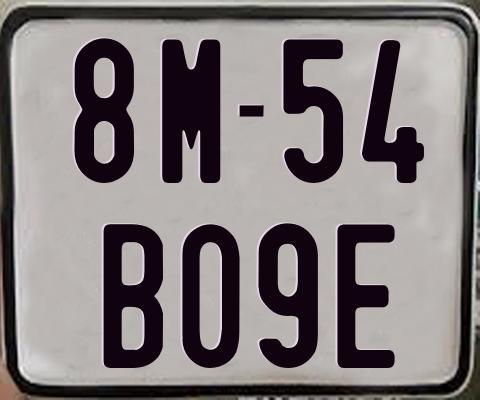0: (181, 222, 244, 371)
4: (362, 40, 426, 186)
5: (280, 36, 342, 184)
8: (73, 38, 133, 189)
9: (258, 221, 324, 371)
B: (101, 221, 160, 367)
E: (336, 221, 398, 365)
M: (159, 37, 224, 185)
